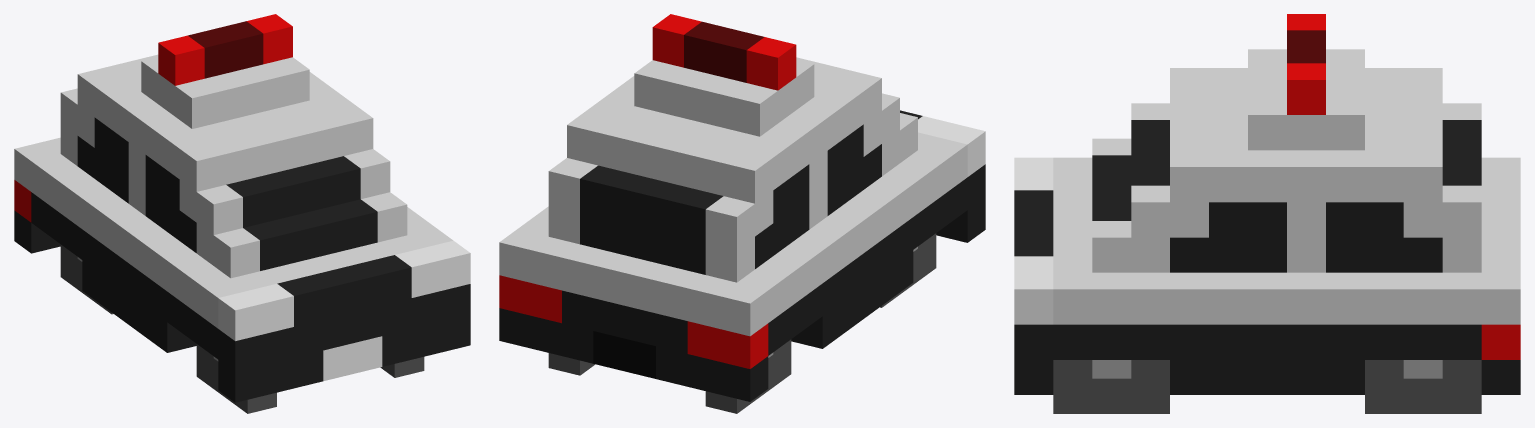
The model's file is Patrol car.fbx.
3 renders of one model, left to right at view 1: azimuth 30°, elevation 25°; view 2: azimuth 150°, elevation 25°; view 3: azimuth 270°, elevation 25°, orthographic. The views are drawn at different scales.
Visible parts, largest first — view 1: 立方体.313, 立方体.481, 立方体.209, 立方体.373, 立方体.427, 立方体.469, 立方体.013, 立方体.105, 立方体.378, 立方体.432, 立方体.318, 立方体.317 (+110 smaller); view 2: 立方体.463, 立方体.481, 立方体.305, 立方体.421, 立方体.477, 立方体.097, 立方体.367, 立方体.201, 立方体.312, 立方体.309, 立方体.467, 立方体.478 (+104 smaller); view 3: 立方体.216, 立方体.224, 立方体.232, 立方体.296, 立方体.304, 立方体.312, 立方体.426, 立方体.468, 立方体.318, 立方体.240, 立方体.248, 立方体.256 (+128 smaller).
Part boxes in pixels (x1,y1,x2,y2): 立方体.313: (213,228,259,278); 立方体.481: (158,35,204,85); 立方体.209: (218,291,264,341); 立方体.373: (196,185,242,234); 立方体.427: (179,141,225,191); 立方体.469: (175,79,221,128); 立方体.013: (218,360,264,402); 立方体.105: (218,329,264,371); 立方体.378: (344,149,390,198); 立方体.432: (327,106,373,155); 立方体.318: (361,192,407,242); 立方体.317: (331,199,377,249); 立方体.463: (723,150,773,203); 立方体.481: (746,37,796,90); 立方体.305: (719,282,768,336); 立方体.421: (705,196,754,249); 立方体.477: (728,83,777,136); 立方体.097: (719,356,768,401); 立方体.367: (705,237,754,282); 立方体.201: (719,323,768,368); 立方体.312: (499,229,548,282); 立方体.309: (593,252,642,305); 立方体.467: (598,119,647,172); 立方体.478: (697,75,746,128); 立方体.216: (1014,272,1053,324); 立方体.224: (1053,272,1092,324); 立方体.232: (1092,272,1131,324); 立方体.296: (1403,272,1442,324); 立方体.304: (1442,272,1481,324); 立方体.312: (1481,272,1520,324); 立方体.426: (1442,185,1481,237); 立方体.468: (1403,150,1442,202); 立方体.318: (1092,221,1131,272); 立方体.240: (1131,272,1169,324); 立方体.248: (1170,272,1208,324); 立方体.256: (1209,272,1247,324).
Size of the model in its own units: 800 by 900 by 1300.
